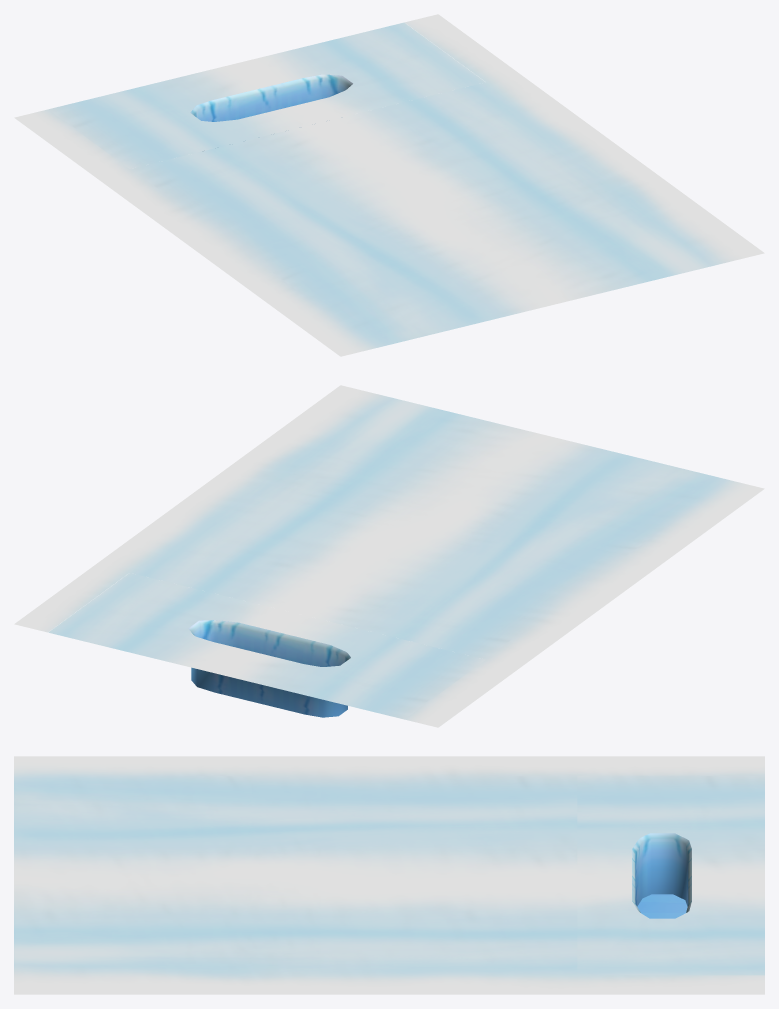
File: Hole_S_Size_02.FBX
3 renders of one model, top to bottom at view 1: azimuth 30°, elevation 25°; view 2: azimuth 150°, elevation 25°; view 3: azimuth 270°, elevation 25°, orthographic. The views are drawn at different scales.
Visible parts, largest first — view 1: Object108; view 2: Object108; view 3: Object108.
Part boxes in pixels (x1,y1,x2,y2): Object108: [14, 14, 764, 356]; Object108: [14, 385, 764, 727]; Object108: [14, 756, 764, 994].
Bounding box in the file's own units: 600 × 70 × 800.
